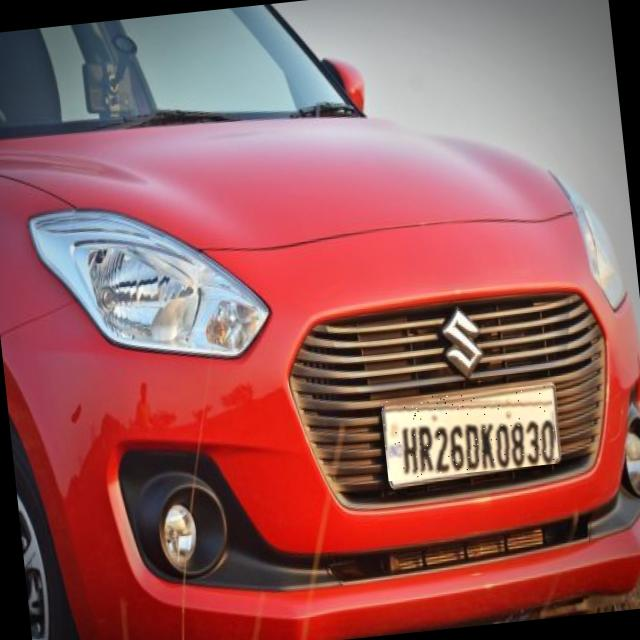Plate: (381, 385, 559, 482)
